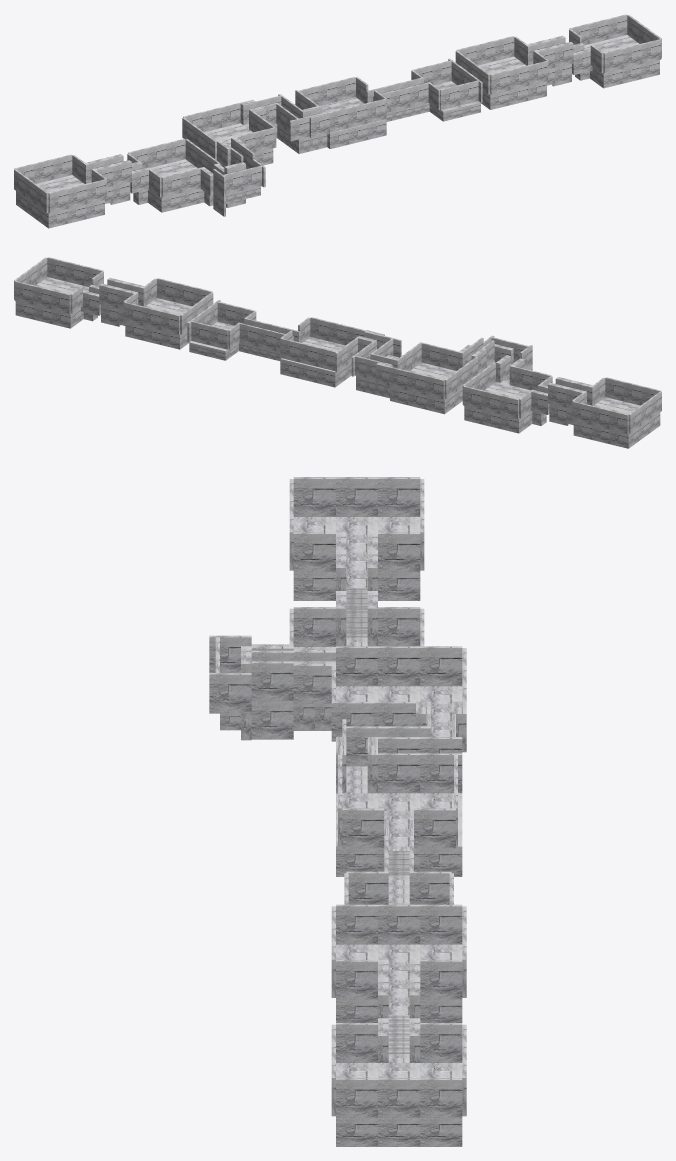
Rendered from RPG2.fbx.
3 views of the same model, one above another, from view 1: azimuth 30°, elevation 25°; view 2: azimuth 150°, elevation 25°; view 3: azimuth 270°, elevation 25° (orthographic). The views are drawn at different scales.
Parts seen in each view (by area): view 1: Box586, Box738, Box717, Box533, Box589, Box741, Box538, Box729, Box841, Box819, Box707, Box753 (+37 smaller); view 2: Box363, Box531, Box337, Box736, Box818, Box718, Box728, Box410, Box525, Box840, Box744, Box543 (+39 smaller); view 3: Box426, Box431, Box517, Box519, Box534, Box725, Box726, Box832, Box834, Box837, Box430, Box524 (+31 smaller).
Part boxes in pixels (x1,y1,x2,y2): Box586: [309, 112, 329, 137]; Box738: [592, 67, 622, 88]; Box717: [37, 207, 67, 228]; Box533: [151, 191, 180, 212]; Box589: [289, 116, 309, 141]; Box741: [603, 48, 623, 73]; Box538: [161, 172, 181, 197]; Box729: [48, 188, 68, 213]; Box841: [490, 70, 510, 94]; Box819: [552, 41, 573, 67]; Box707: [111, 160, 131, 186]; Box753: [572, 49, 592, 74]; Box363: [317, 366, 345, 387]; Box531: [500, 412, 529, 433]; Box337: [426, 393, 455, 414]; Box736: [52, 308, 80, 328]; Box818: [99, 283, 119, 308]; Box718: [610, 428, 638, 448]; Box728: [609, 410, 628, 434]; Box410: [209, 325, 228, 349]; Box525: [425, 375, 444, 399]; Box840: [160, 311, 179, 334]; Box744: [51, 290, 70, 313]; Box543: [499, 395, 518, 418]; Box426: [378, 753, 420, 793]; Box431: [342, 808, 384, 848]; Box517: [420, 646, 462, 686]; Box519: [378, 646, 420, 686]; Box534: [251, 661, 293, 701]; Box725: [378, 532, 420, 572]; Box726: [293, 532, 335, 572]; Box832: [420, 904, 462, 944]; Box834: [378, 904, 420, 944]; Box837: [420, 959, 462, 999]; Box430: [414, 808, 455, 848]; Box524: [336, 646, 377, 686].
Size of the model in its own units: 33200 by 2400 by 6100.
